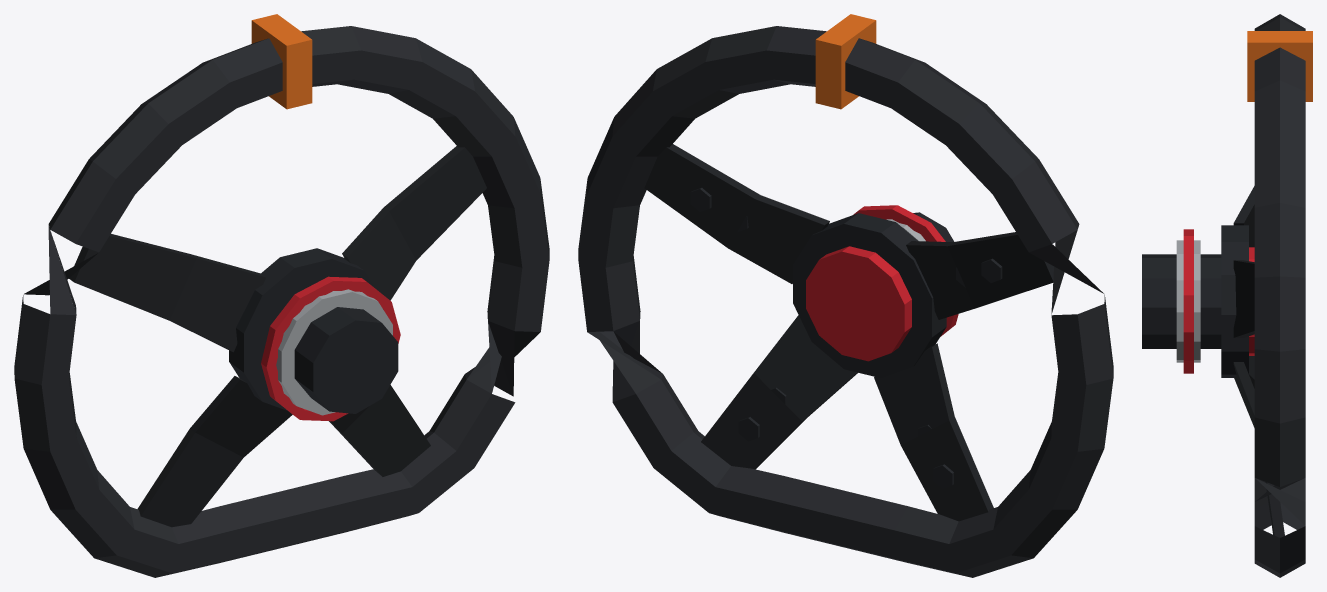
File: kaze_gt.glb
3 views of the same model, side by side, from view 1: azimuth 30°, elevation 25°; view 2: azimuth 150°, elevation 25°; view 3: azimuth 270°, elevation 25° (orthographic). The views are drawn at different scales.
Parts seen in each view (by area): view 1: model; view 2: model; view 3: model.
Boxes of the visible parts, x1,y1,x2,y2 form: model: [14, 14, 549, 577]; model: [578, 14, 1113, 577]; model: [1142, 14, 1312, 577].
Bounding box in the file's own units: 0.3348 × 0.3097 × 0.099.
Materials: 4 (1 with a texture image).
